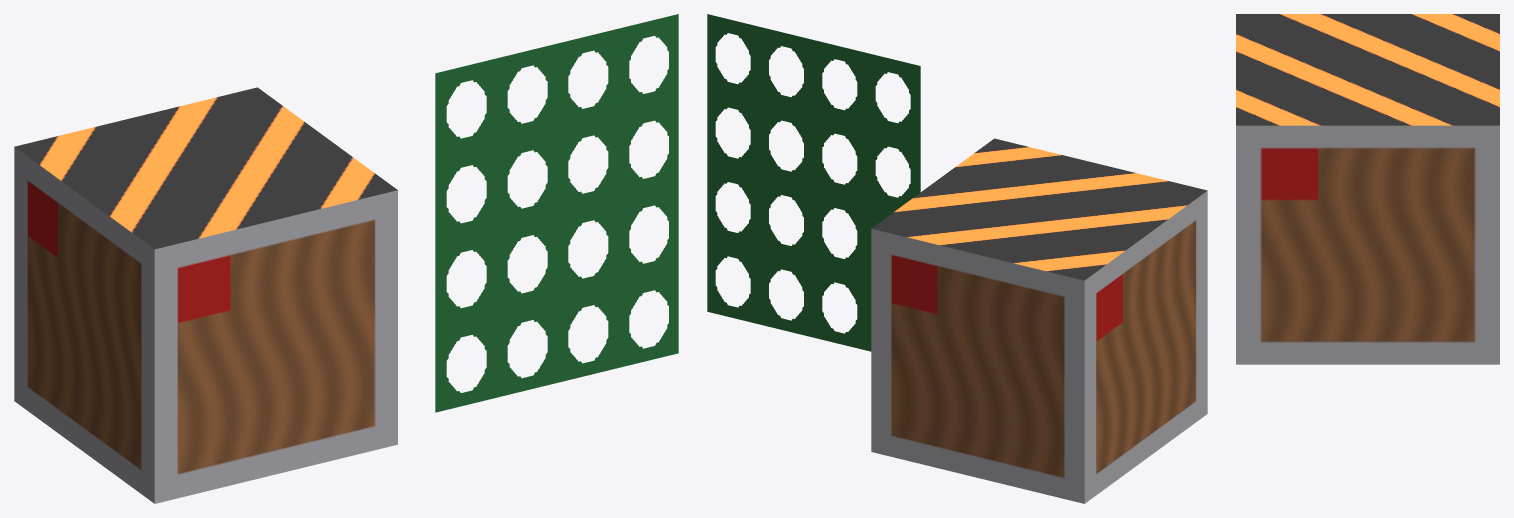
The model's file is sample.glb.
3 views of the same model, side by side, from view 1: azimuth 30°, elevation 25°; view 2: azimuth 150°, elevation 25°; view 3: azimuth 270°, elevation 25° (orthographic). The views are drawn at different scales.
Parts seen in each view (by area): view 1: sample; view 2: sample; view 3: sample.
Part boxes in pixels (box(x1,y1,x2,y2)): sample: box(14, 14, 678, 503); sample: box(707, 14, 1207, 503); sample: box(1236, 14, 1499, 364).
Size of the model in its own units: 2.7 by 1.6 by 1.2.
Materials: 3 (2 with a texture image).
